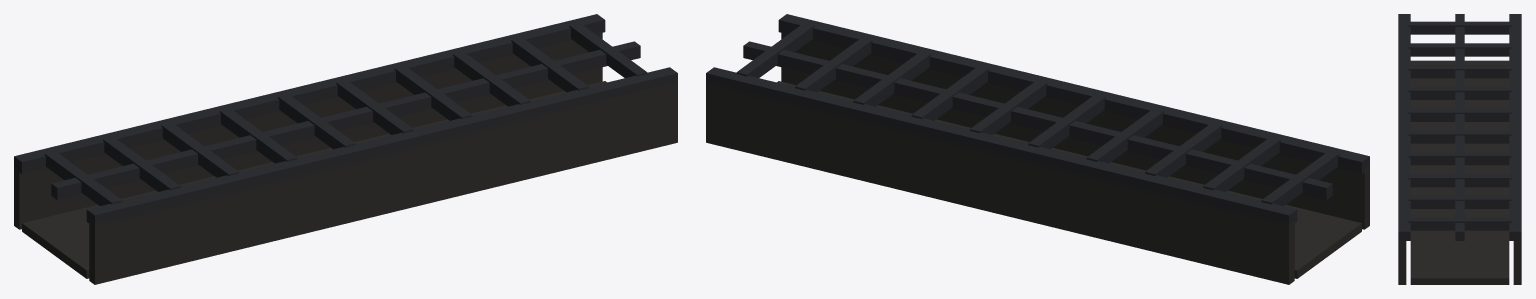
Rendered from SM_Ground_DrainChannel_01.fbx.
3 renders of one model, left to right at view 1: azimuth 30°, elevation 25°; view 2: azimuth 150°, elevation 25°; view 3: azimuth 270°, elevation 25°, orthographic. The views are drawn at different scales.
Visible parts, largest first — view 1: SM_Ground_DrainChannel_01; view 2: SM_Ground_DrainChannel_01; view 3: SM_Ground_DrainChannel_01.
Part boxes in pixels (x1=…): SM_Ground_DrainChannel_01: x1=14, y1=14, x2=677, y2=284; SM_Ground_DrainChannel_01: x1=706, y1=14, x2=1369, y2=284; SM_Ground_DrainChannel_01: x1=1398, y1=14, x2=1521, y2=284.
Bounding box in the file's own units: 1 × 0.117 × 0.24.
1 material, 1 textured.
